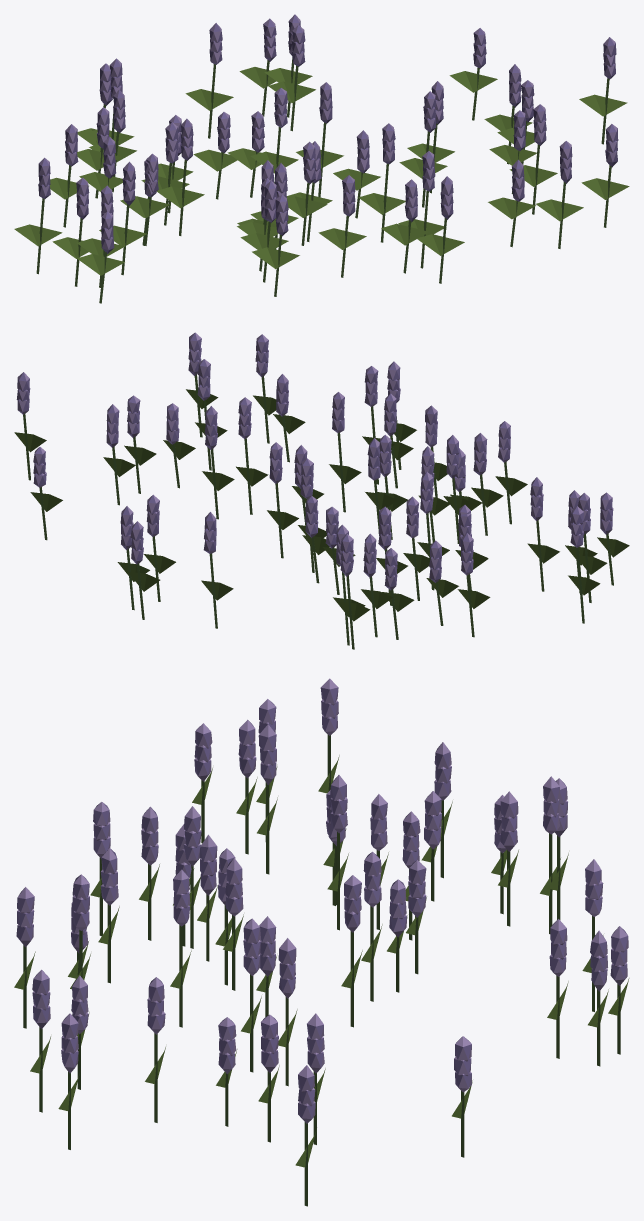
File: meadow_lavender.glb
3 renders of one model, top to bottom at view 1: azimuth 30°, elevation 25°; view 2: azimuth 150°, elevation 25°; view 3: azimuth 270°, elevation 25°, orthographic. The views are drawn at different scales.
Visible parts, largest first — view 1: meadow_lavender_body; view 2: meadow_lavender_body; view 3: meadow_lavender_body.
Boxes of the visible parts, x1=… form: meadow_lavender_body: x1=14, y1=14, x2=629, y2=303; meadow_lavender_body: x1=14, y1=332, x2=629, y2=649; meadow_lavender_body: x1=14, y1=678, x2=629, y2=1206.
Bounding box in the file's own units: 7.32 × 1.38 × 4.75.
